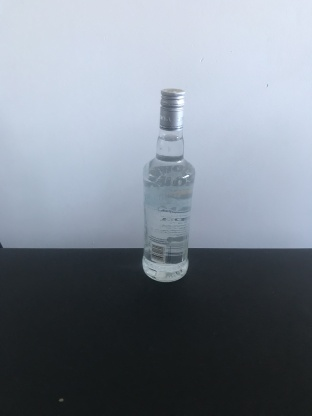nakretka: (158, 85, 186, 133)
